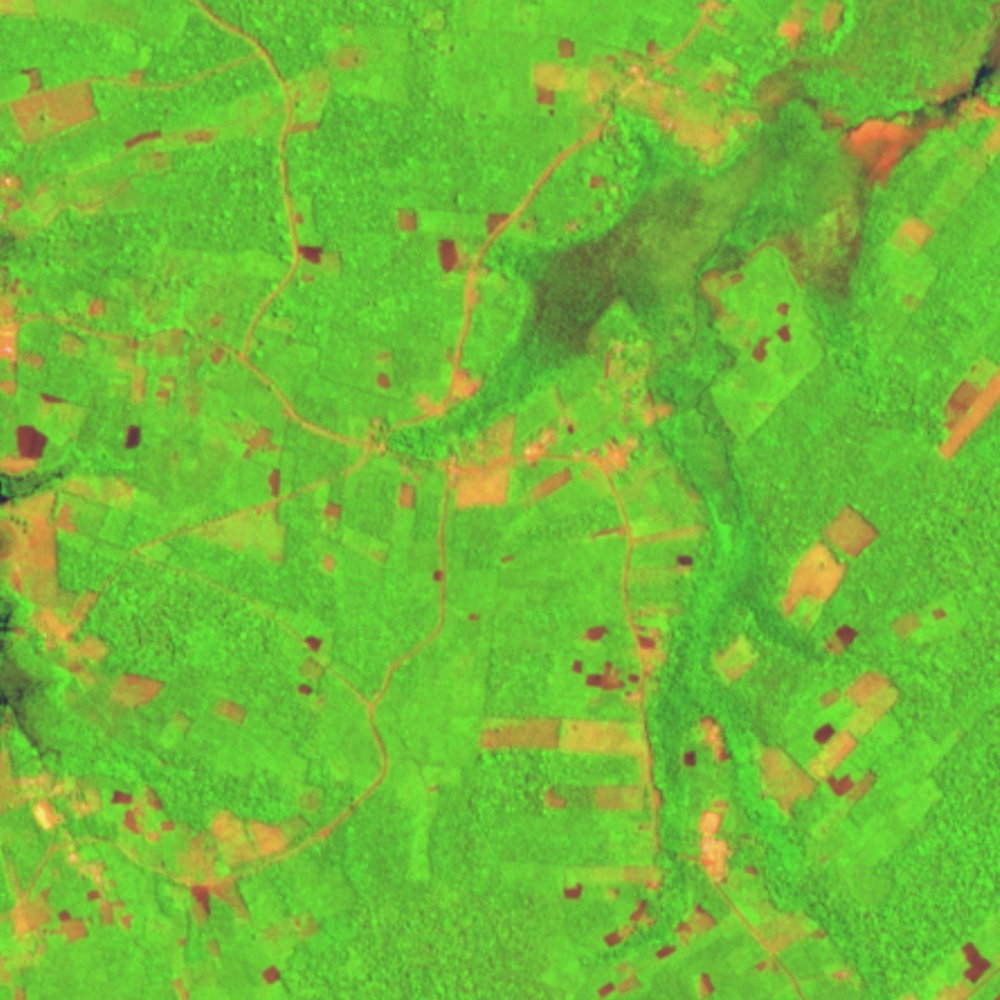legal: (1, 485, 168, 720), (528, 34, 758, 175), (565, 505, 719, 710), (1, 275, 233, 411), (515, 337, 673, 511), (1, 764, 137, 965), (754, 668, 907, 834), (793, 73, 1000, 185), (719, 865, 858, 989), (781, 499, 883, 657), (363, 340, 491, 464), (175, 784, 335, 878), (372, 407, 515, 511), (517, 860, 668, 948), (171, 465, 297, 566), (1, 65, 147, 151), (285, 25, 374, 137), (692, 263, 796, 358), (478, 709, 651, 766), (394, 200, 519, 278), (167, 869, 254, 960), (936, 351, 1000, 463), (903, 941, 1000, 1000), (535, 778, 665, 820), (117, 125, 226, 175), (559, 175, 636, 243), (687, 794, 739, 887), (208, 405, 291, 463), (784, 1, 862, 58), (654, 901, 721, 964), (1, 167, 55, 243), (112, 787, 176, 848), (1, 418, 53, 486), (680, 713, 735, 775), (291, 633, 331, 707), (284, 240, 343, 288), (711, 632, 765, 684), (890, 601, 954, 641), (254, 910, 322, 947), (591, 959, 649, 1000), (894, 210, 945, 255), (1, 950, 41, 1000), (210, 697, 255, 729), (313, 498, 355, 527), (119, 418, 148, 452), (259, 958, 289, 986), (695, 970, 720, 1000), (170, 714, 199, 737), (166, 978, 192, 1000), (426, 563, 446, 587), (321, 551, 342, 569)
